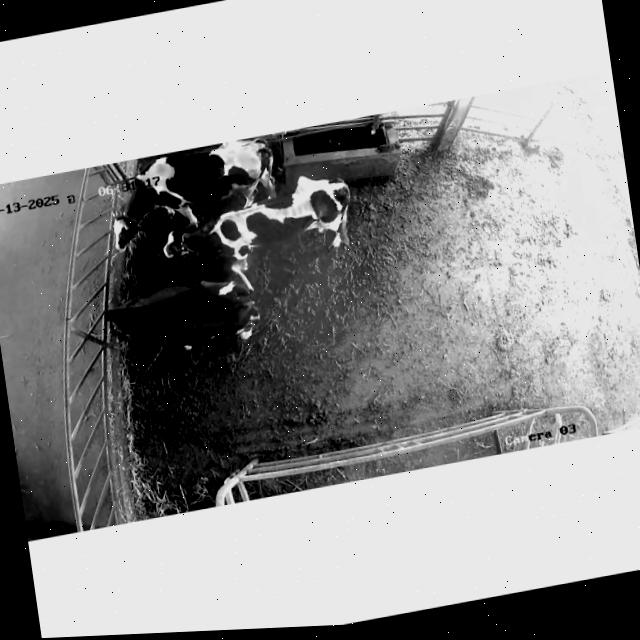stand: (163, 175, 351, 289), (113, 137, 275, 250)
